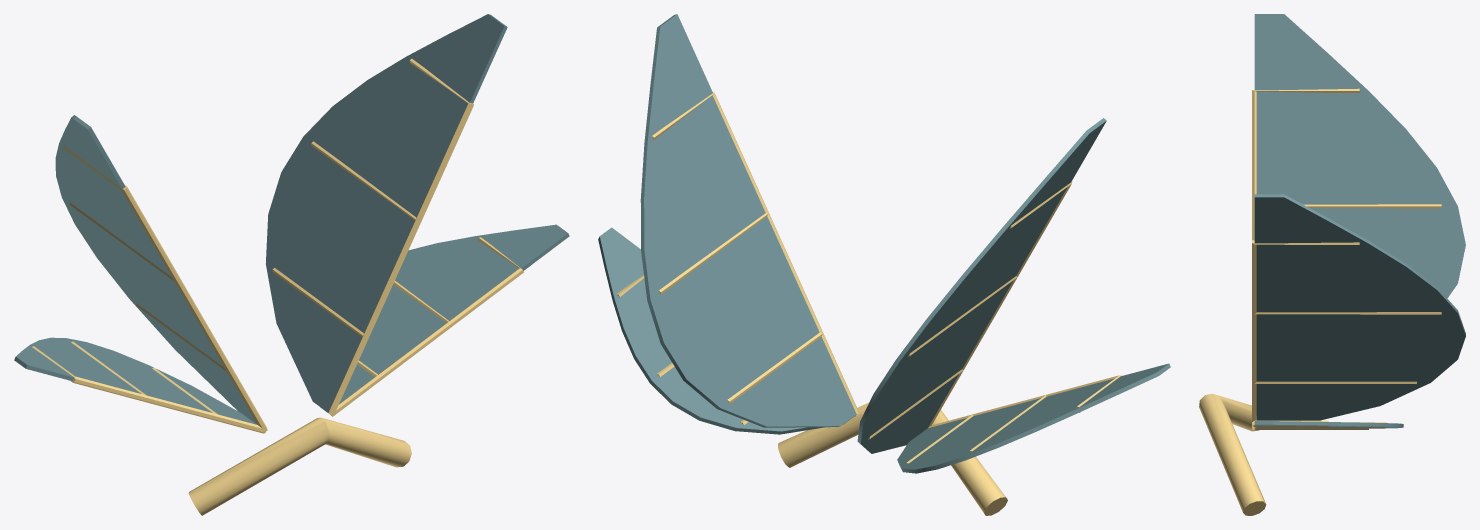
File: wing_fae.fbx
3 renders of one model, left to right at view 1: azimuth 30°, elevation 25°; view 2: azimuth 150°, elevation 25°; view 3: azimuth 270°, elevation 25°, orthographic. The views are drawn at different scales.
Visible parts, largest first — view 1: fae_1, gold_1; view 2: fae_1, gold_1; view 3: fae_1, gold_1.
Part boxes in pixels (<box>): fae_1: <box>14,14,569,424</box>; gold_1: <box>32,58,523,515</box>; fae_1: <box>598,14,1170,473</box>; gold_1: <box>616,92,1122,515</box>; fae_1: <box>1254,14,1465,428</box>; gold_1: <box>1199,88,1441,515</box>.
Bounding box in the file's own units: 0.0834 × 0.0606 × 0.0396.
